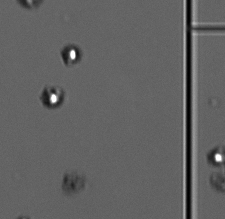Dead Cell: (62, 169, 86, 195), (16, 1, 46, 8)
Living Cell: (41, 84, 68, 108), (60, 43, 83, 66), (208, 145, 223, 166)
